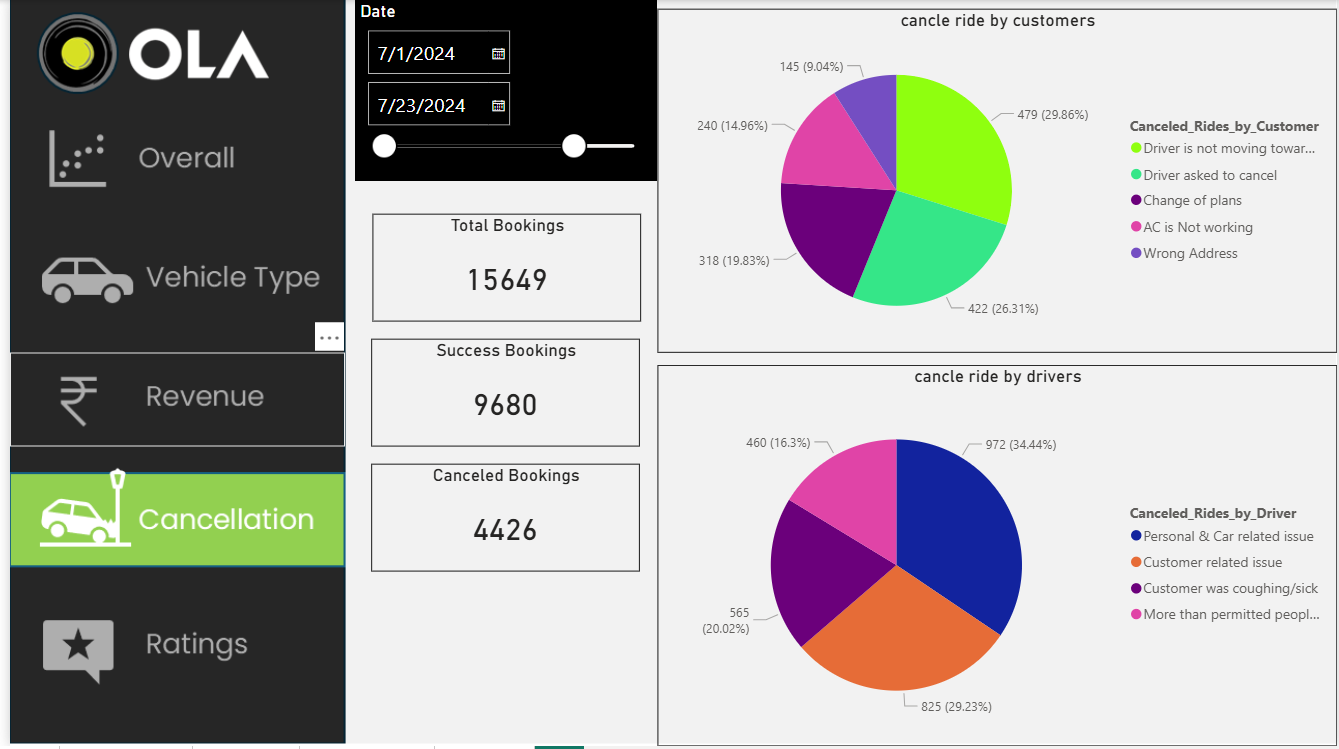

What the dashboard file says about the page in this screenshot:
{"tool":"powerbi","page":{"name":"Cancellation","canvas":[1280,720],"ordinal":3},"visuals":[{"type":"actionButton","box":[0,218.4,323.3,91.7],"z":0},{"type":"actionButton","box":[0,340.2,323.3,90.5],"z":1000},{"type":"actionButton","box":[0,441.6,323.3,109.8],"z":2000},{"type":"actionButton","box":[0,588.7,323.3,85.7],"z":3000},{"type":"pieChart","title":"cancle ride by customers","fields":{"Category":["July.Canceled_Rides_by_Customer"],"Y":["CountNonNull(July.Canceled_Rides_by_Customer)"]},"box":[624.4,8.2,655.9,332.1],"z":4000},{"type":"pieChart","title":"cancle ride by drivers","fields":{"Category":["July.Canceled_Rides_by_Driver"],"Y":["CountNonNull(July.Canceled_Rides_by_Driver)"]},"box":[624.4,352.7,655.9,367.8],"z":5000},{"type":"slicer","title":"Date","fields":{"Values":["July.Date"]},"box":[333.4,0,290.9,174.3],"z":6000},{"type":"card","title":"Total Bookings","fields":{"Values":["Count(July.Booking_ID)"]},"box":[349.9,205.8,259.3,104.3],"z":6004},{"type":"card","title":"Success Bookings","fields":{"Values":["Count(July.Booking_ID)"]},"box":[348.5,326.6,259.3,104.3],"z":6005},{"type":"card","title":"Canceled Bookings","fields":{"Values":["Count(July.Booking_ID)"]},"box":[348.5,447.3,259.3,104.3],"z":6006}]}

Visuals, with their boxes in screenshot pixels (x1, y1, x2, y2), scaled from the page's 1280x720 canvas onto the 1339x749 screenshot:
actionButton: 0, 227, 338, 323
actionButton: 0, 354, 338, 448
actionButton: 0, 459, 338, 574
actionButton: 0, 612, 338, 702
"cancle ride by customers" pieChart: 653, 9, 1338, 354
"cancle ride by drivers" pieChart: 653, 367, 1338, 748
"Date" slicer: 349, 0, 653, 181
"Total Bookings" card: 366, 214, 637, 323
"Success Bookings" card: 365, 340, 636, 448
"Canceled Bookings" card: 365, 465, 636, 574
